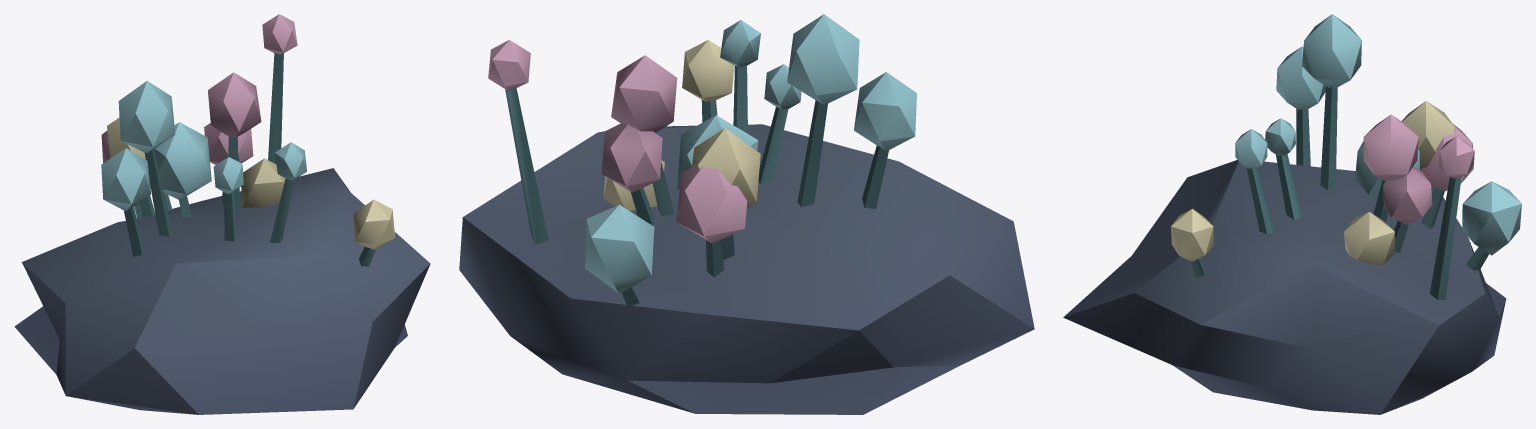
File: glow_colony.glb
The picture shows the model from 3 angles, left to right: view 1: azimuth 30°, elevation 25°; view 2: azimuth 150°, elevation 25°; view 3: azimuth 270°, elevation 25°; orthographic projection. The views are drawn at different scales.
Visible parts, largest first — view 1: glow_colony; view 2: glow_colony; view 3: glow_colony.
Boxes of the visible parts, x1,y1,x2,y2 form: glow_colony: (14,14,430,414); glow_colony: (459,14,1034,414); glow_colony: (1063,14,1521,414).
Size of the model in its own units: 2.07 by 1.32 by 2.01.
